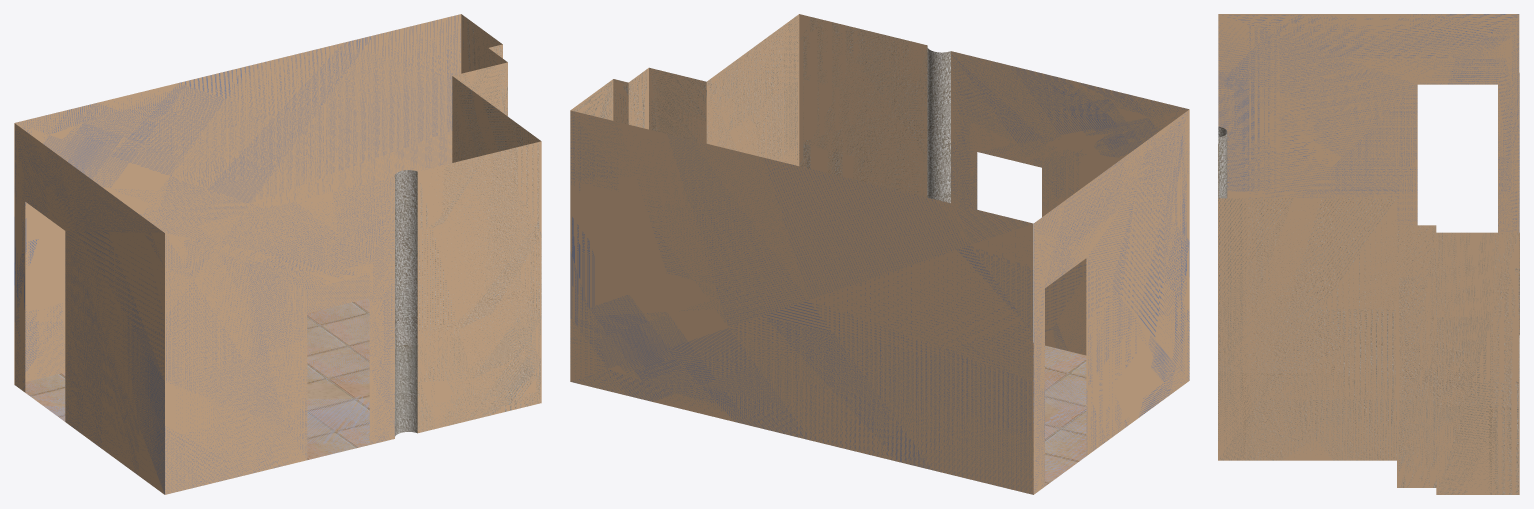
File: COM016.obj
3 views of the same model, side by side, from view 1: azimuth 30°, elevation 25°; view 2: azimuth 150°, elevation 25°; view 3: azimuth 270°, elevation 25° (orthographic). The views are drawn at different scales.
Parts seen in each view (by area): view 1: Mesh1 COM016 Model; view 2: Mesh1 COM016 Model; view 3: Mesh1 COM016 Model.
Part boxes in pixels (<box>): Mesh1 COM016 Model: <box>14,14,541,494</box>; Mesh1 COM016 Model: <box>570,14,1189,494</box>; Mesh1 COM016 Model: <box>1218,14,1519,494</box>.
Size of the model in its own units: 6.43 by 3.6 by 3.75.
4 materials, 2 textured.
